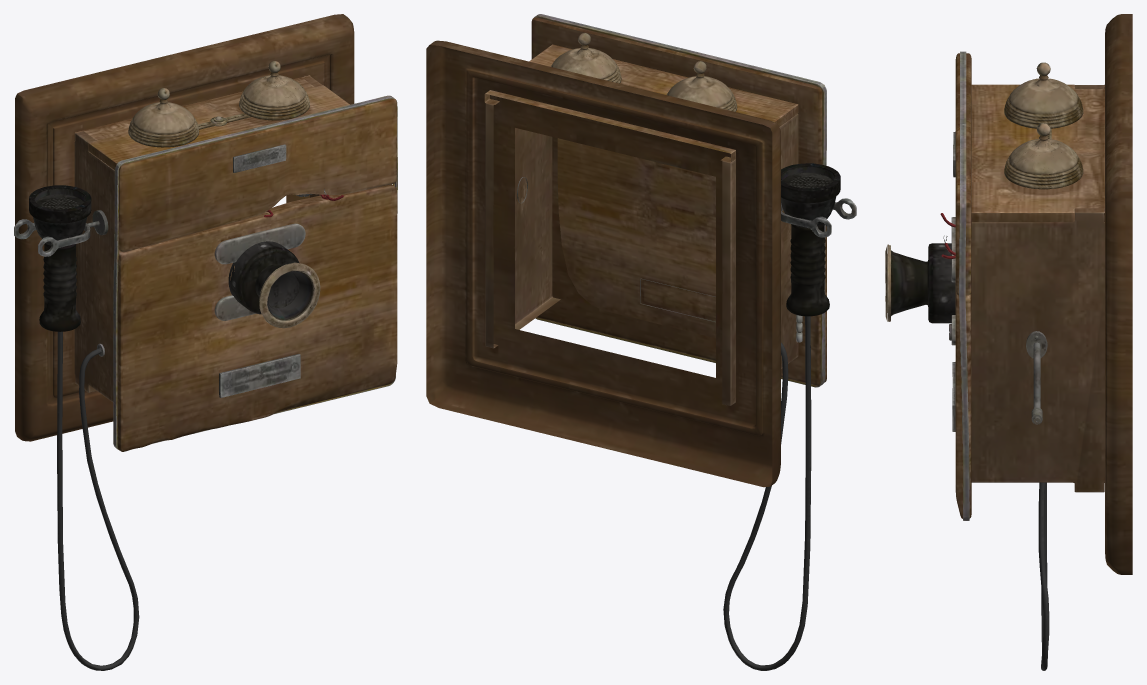
The model's file is rotary-phone.glb.
3 views of the same model, side by side, from view 1: azimuth 30°, elevation 25°; view 2: azimuth 150°, elevation 25°; view 3: azimuth 270°, elevation 25° (orthographic). The views are drawn at different scales.
Parts seen in each view (by area): view 1: g_Box011_001_14___Default_0; view 2: g_Box011_001_14___Default_0; view 3: g_Box011_001_14___Default_0.
Boxes of the visible parts, x1,y1,x2,y2 form: g_Box011_001_14___Default_0: [14, 14, 397, 670]; g_Box011_001_14___Default_0: [426, 14, 856, 670]; g_Box011_001_14___Default_0: [885, 14, 1132, 670].
Size of the model in its own units: 0.153 by 0.23 by 0.0813.
1 material, 1 textured.
